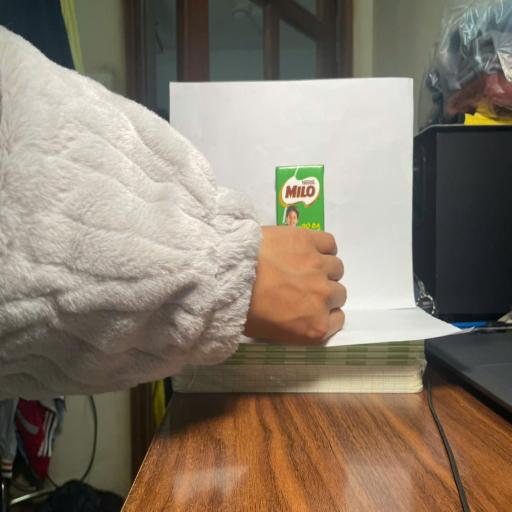milo: (276, 165, 324, 232)
